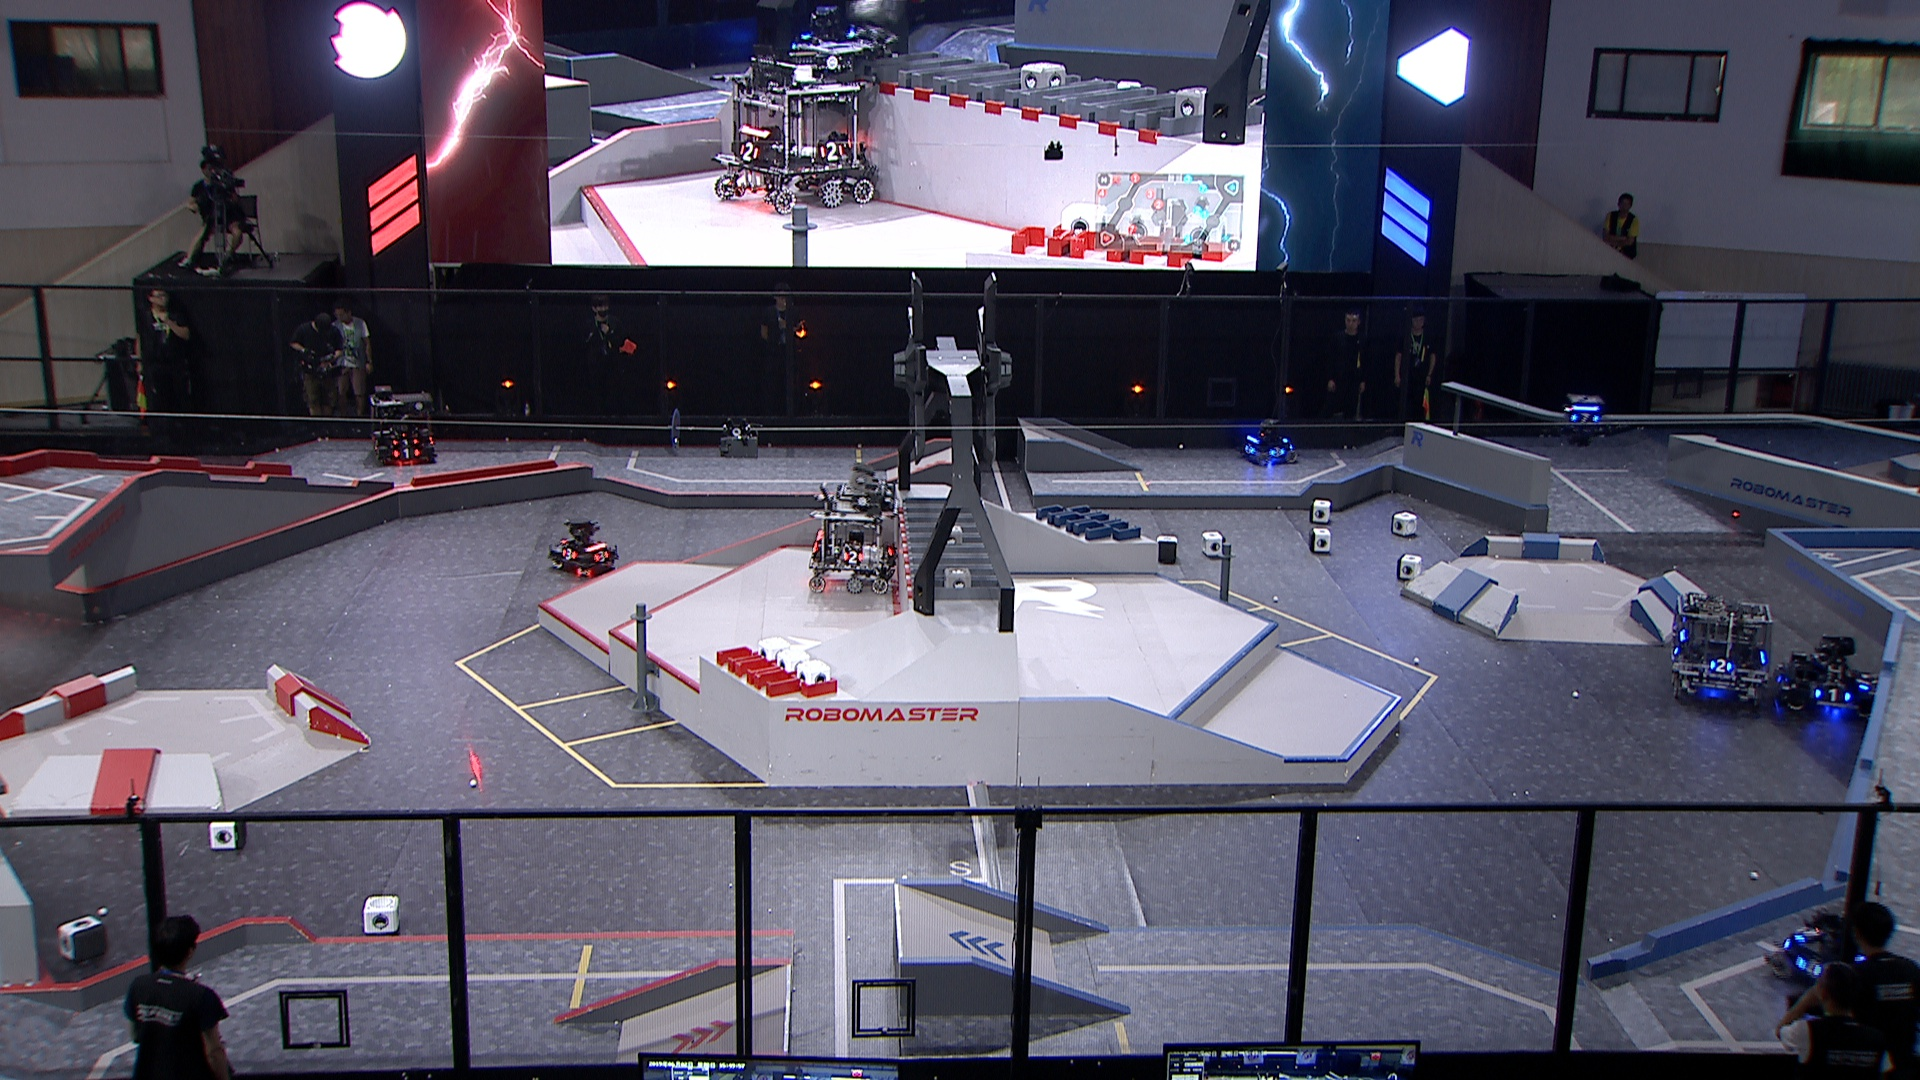armor: (1815, 684, 1855, 704), (1793, 951, 1822, 978), (1793, 922, 1822, 945), (1569, 407, 1602, 425), (392, 446, 422, 462), (1708, 655, 1733, 674), (392, 434, 422, 448), (840, 549, 865, 564), (1854, 673, 1873, 694), (589, 547, 609, 564), (556, 533, 576, 549), (1269, 443, 1284, 458), (560, 547, 576, 560), (1244, 440, 1255, 458)
car: (800, 473, 903, 597), (1669, 589, 1774, 709), (1764, 898, 1888, 996), (1776, 629, 1883, 721), (367, 385, 442, 469), (546, 517, 621, 578), (1237, 417, 1302, 469)
ignore: (713, 41, 885, 214)
watcher: (1561, 390, 1607, 450)
